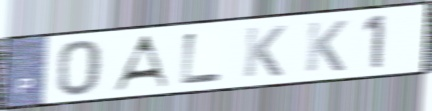0: (53, 38, 105, 98)
1: (359, 12, 387, 72)
A: (108, 33, 171, 92)
K: (240, 23, 289, 80), (302, 18, 351, 74)
L: (178, 31, 226, 87)
